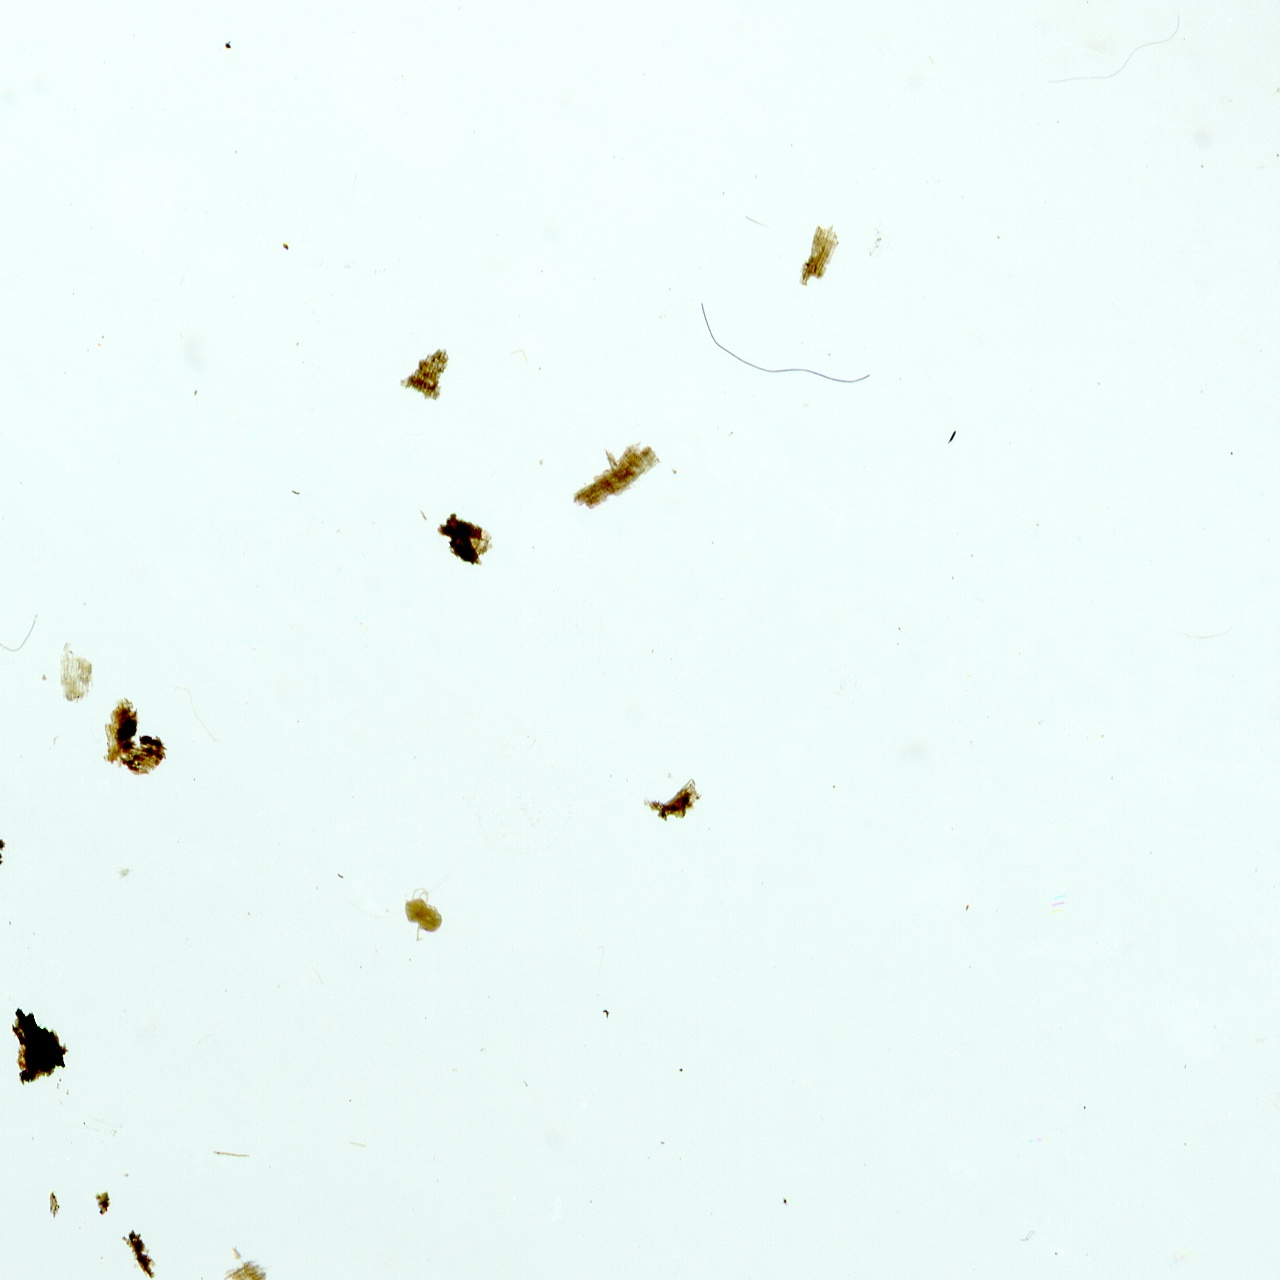arthropod: (400, 885, 448, 944)
